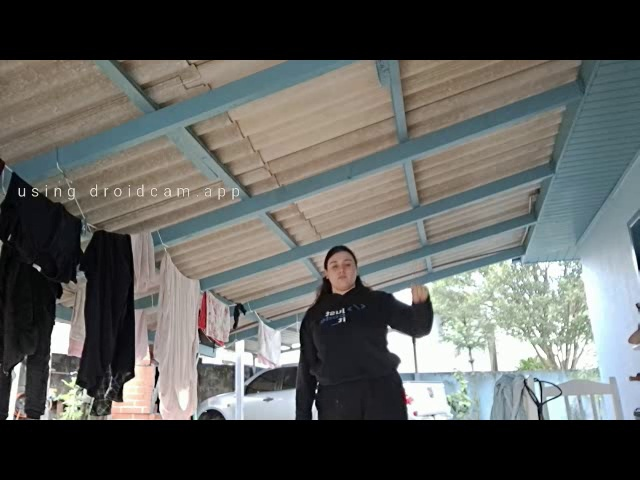MULHER: (307, 236, 368, 295)
